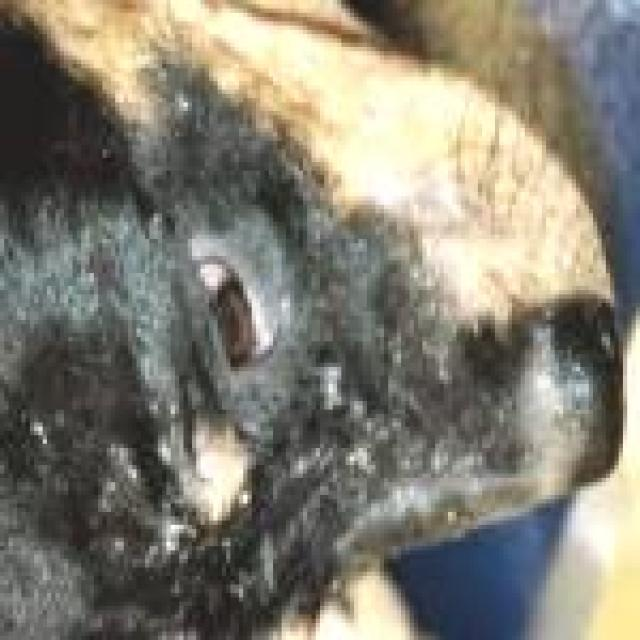fungal infection: (156, 414, 274, 520)
